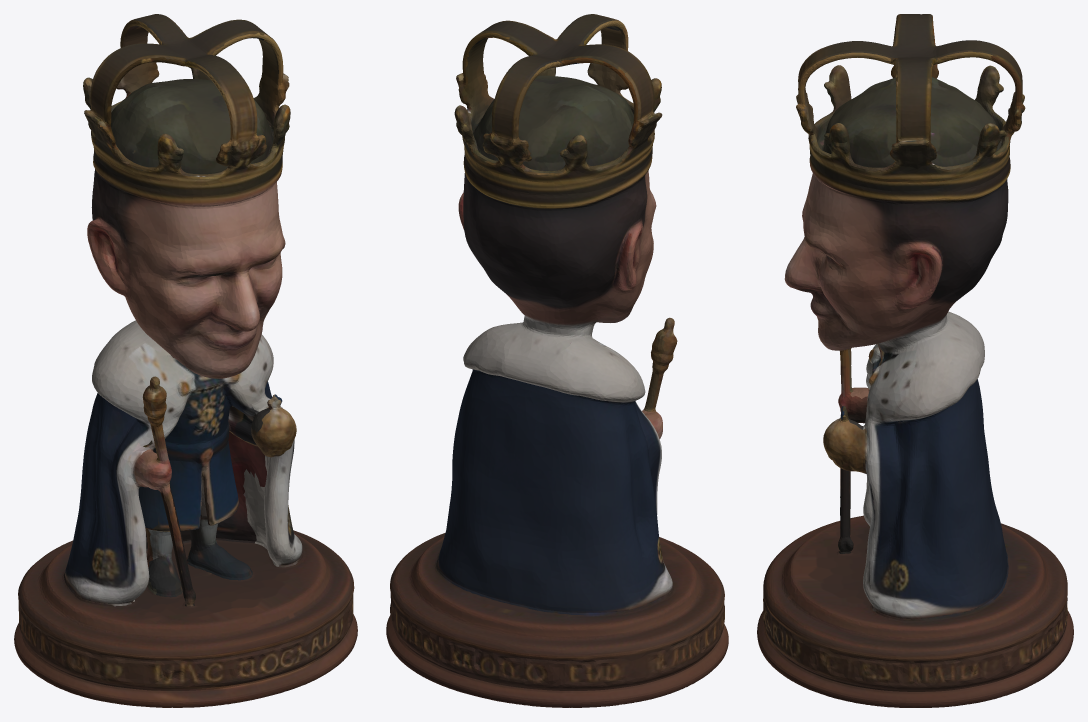
Rendered from king-riccardo-hy2.glb.
3 views of the same model, side by side, from view 1: azimuth 30°, elevation 25°; view 2: azimuth 150°, elevation 25°; view 3: azimuth 270°, elevation 25° (orthographic).
Visible parts, largest first — view 1: tmpf9b_jwa8.ply; view 2: tmpf9b_jwa8.ply; view 3: tmpf9b_jwa8.ply.
Part boxes in pixels (bbox=[...]): tmpf9b_jwa8.ply: bbox=[14, 14, 357, 707]; tmpf9b_jwa8.ply: bbox=[386, 14, 728, 707]; tmpf9b_jwa8.ply: bbox=[757, 14, 1073, 707].
Bounding box in the file's own units: 1.05 × 1.99 × 0.9631.
Materials: 1 (1 with a texture image).
